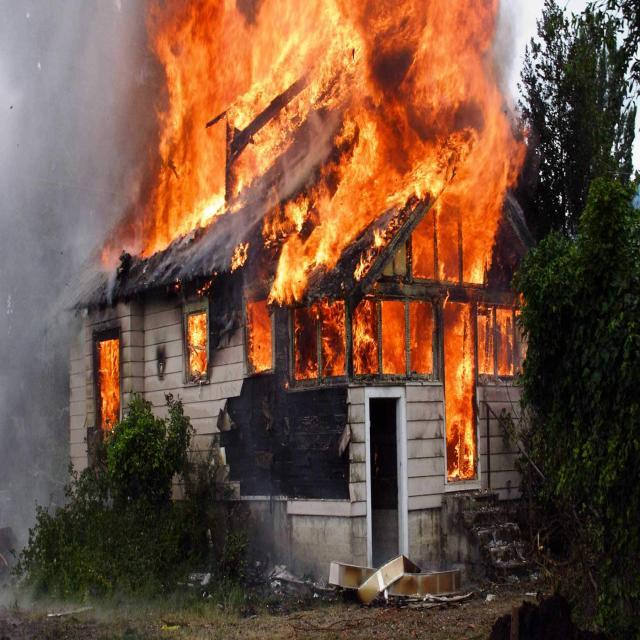Fire: (152, 3, 548, 383), (436, 299, 486, 487), (86, 325, 130, 432)
Smoke: (0, 0, 144, 272)
